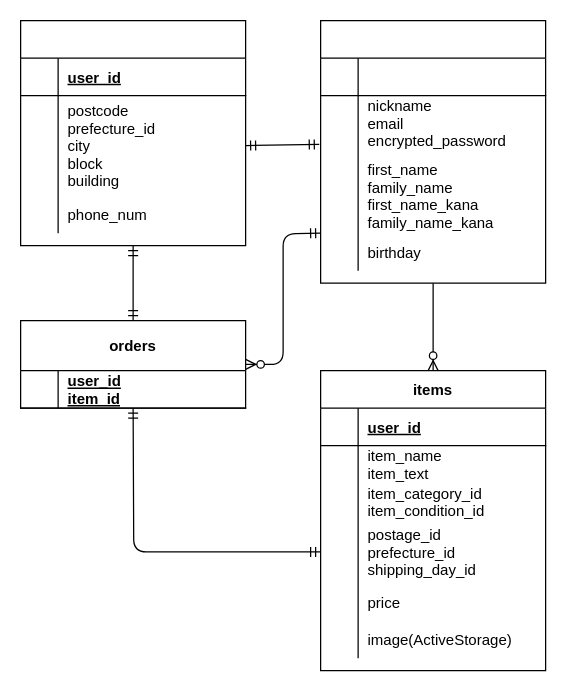
The diagram is 566 pixels wide and 691 high, and some of its shapes have lost their labels. Here are the shapes that lost their labels. From the top down, the box of each, then its label:
(19, 19, 246, 246): addresses
(319, 19, 546, 283): users
